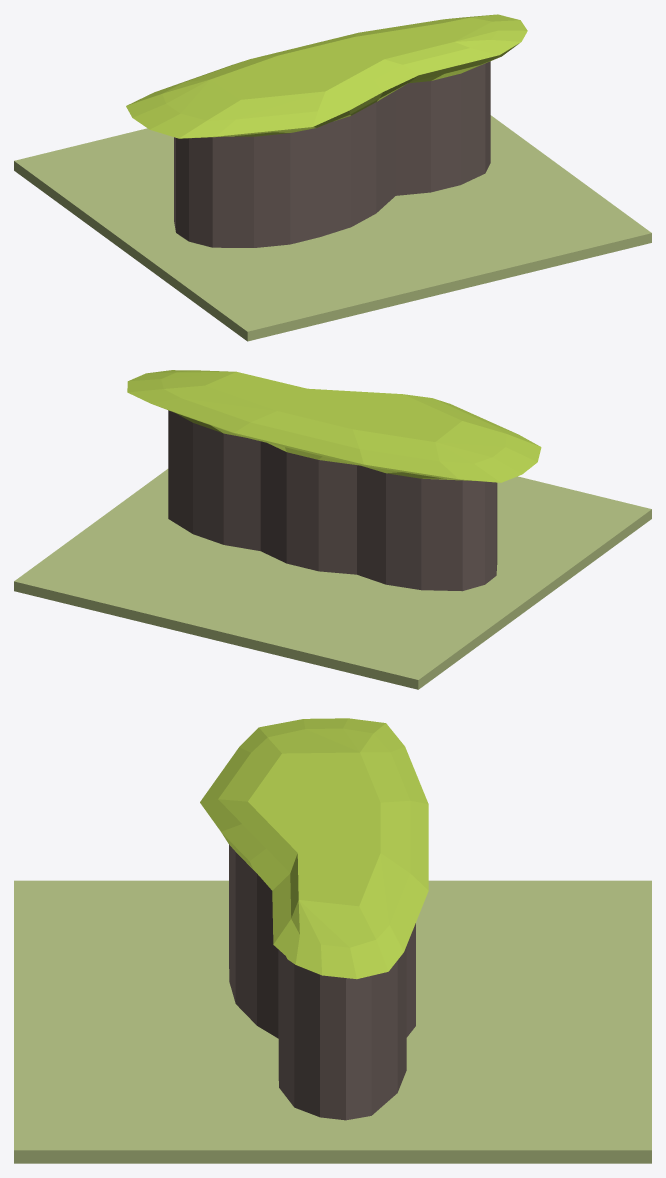
Rendered from Forest IV.fbx.
The picture shows the model from 3 angles, top to bottom: view 1: azimuth 30°, elevation 25°; view 2: azimuth 150°, elevation 25°; view 3: azimuth 270°, elevation 25°; orthographic projection. The views are drawn at different scales.
Parts seen in each view (by area): view 1: Forest IV; view 2: Forest IV; view 3: Forest IV.
Part boxes in pixels (bbox=[...]): Forest IV: bbox=[14, 14, 651, 341]; Forest IV: bbox=[14, 370, 651, 689]; Forest IV: bbox=[14, 718, 651, 1163].
Bounding box in the file's own units: 1600 × 558 × 1600.
